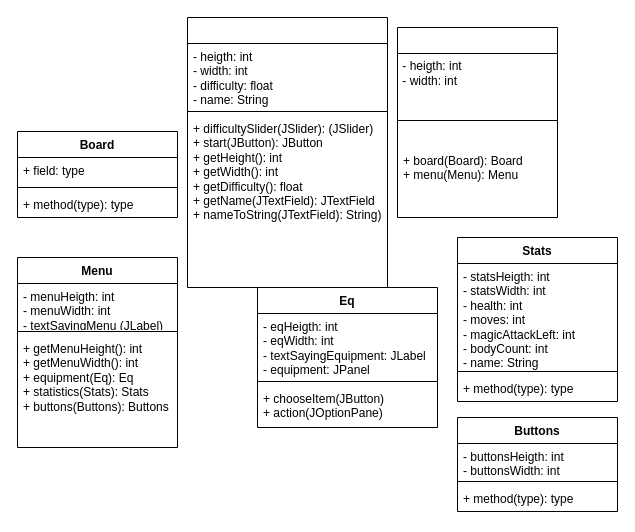
This 635x532 diagram has some shape labels left out. Here are the shapes that lost their labels. From the top down, the box of each, then its label:
(396, 26, 558, 218): MainFrame
(186, 16, 388, 288): Settings
